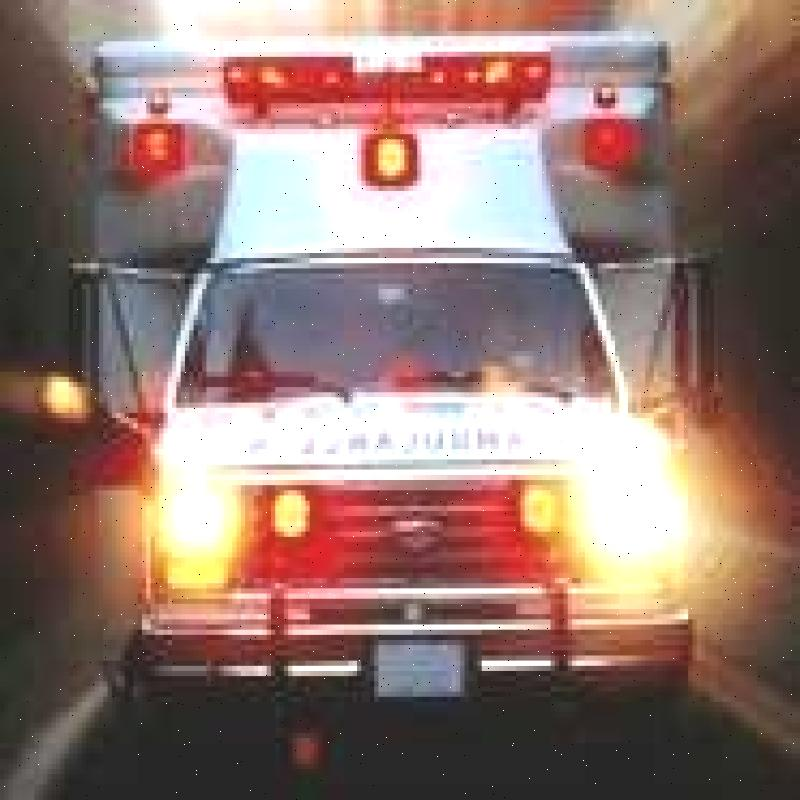AmbulanceSiren: (174, 40, 596, 138)
